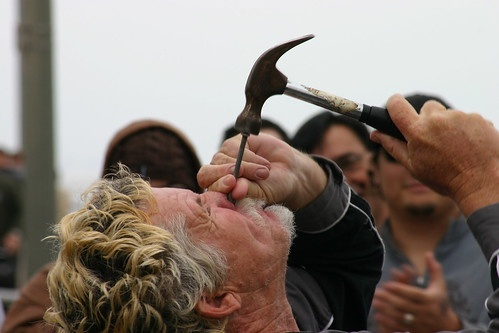hammer: (233, 34, 420, 139)
